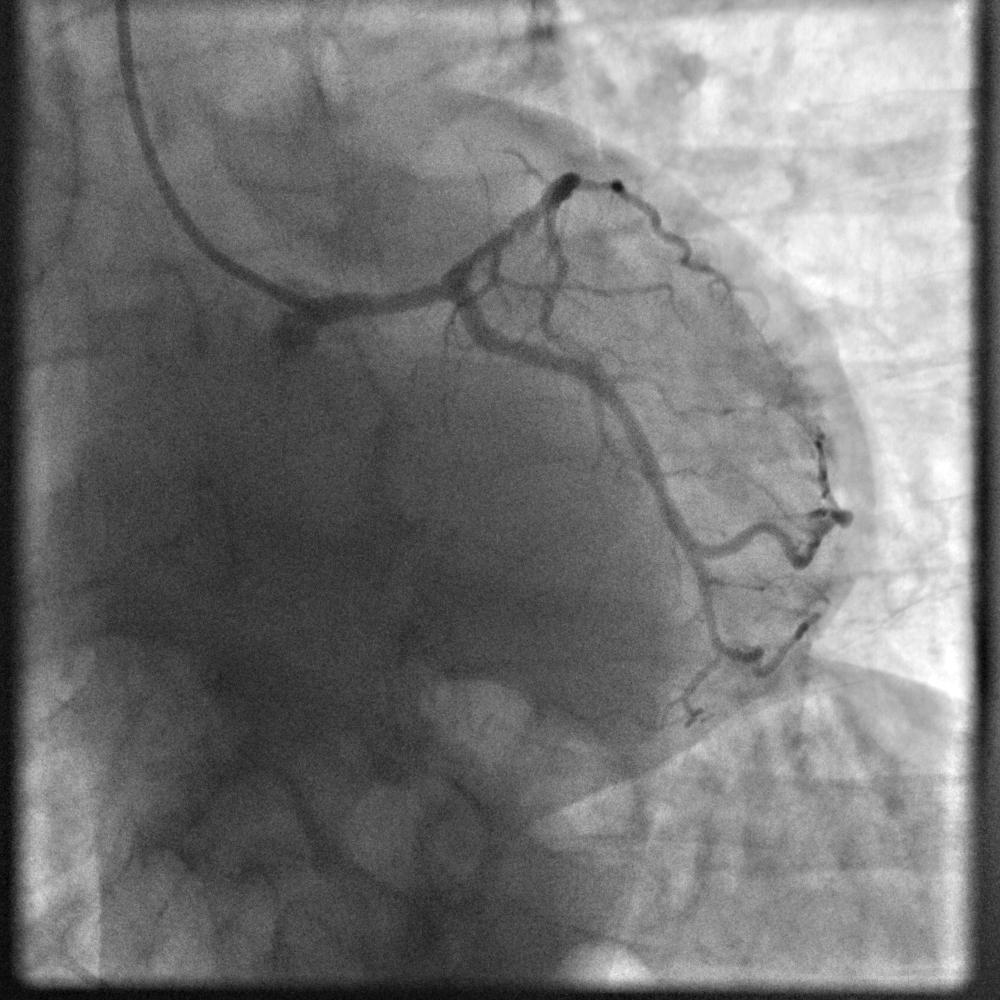Stenosis: (503, 220, 523, 238)
